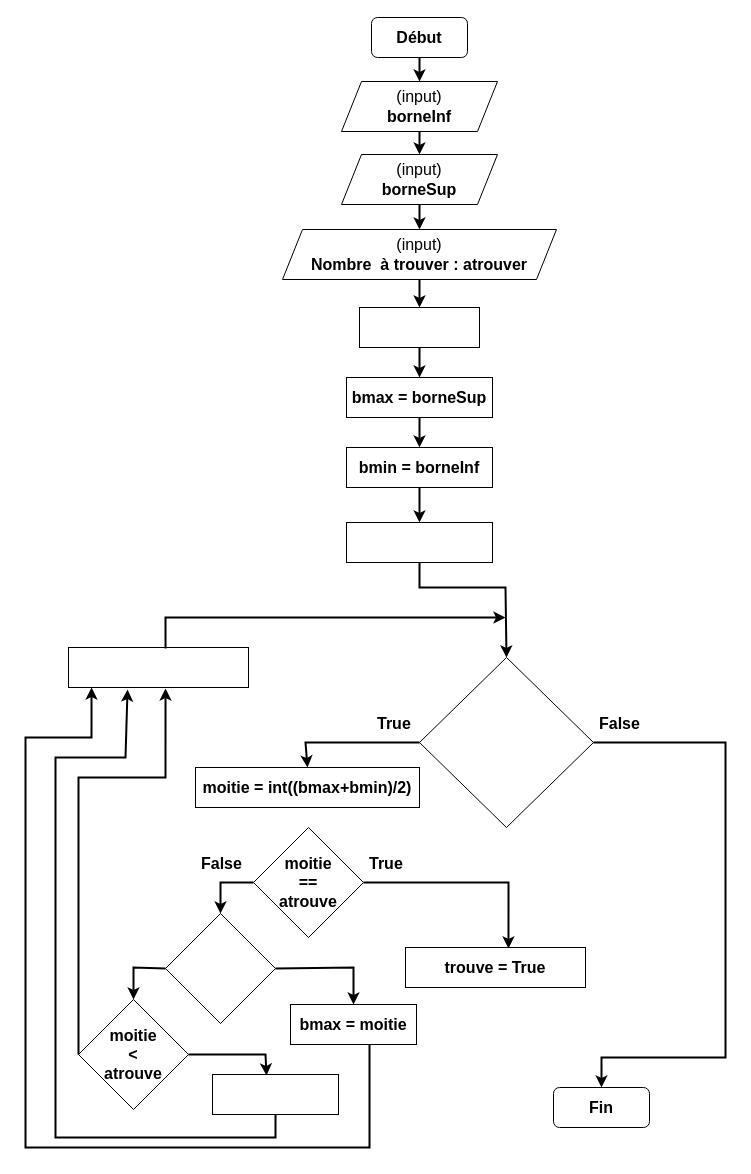
The diagram is 751 pixels wide and 1174 high, and some of its shapes have lost their labels. The centre of each missing label's shape, as x and y in pixels:
"bmin = moitie" goes at point 275,1094.
"moitie > atrouve" goes at point 220,968.
"N = 0" goes at point 419,327.
"N = N + 1" goes at point 158,667.
"trouve != True" goes at point 506,742.
"trouve = False" goes at point 419,542.
